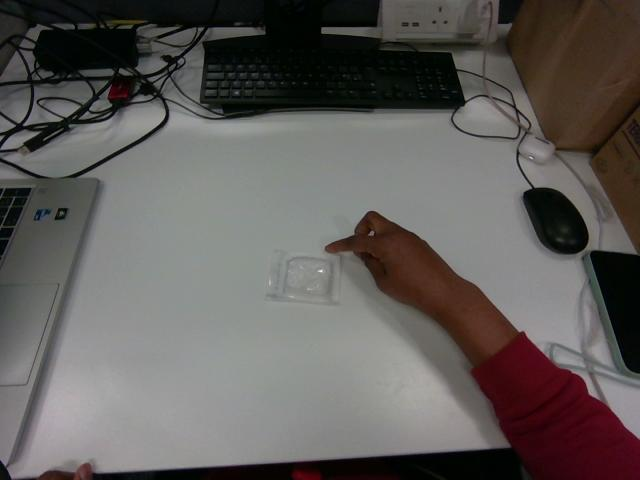gauze: (267, 250, 339, 304)
